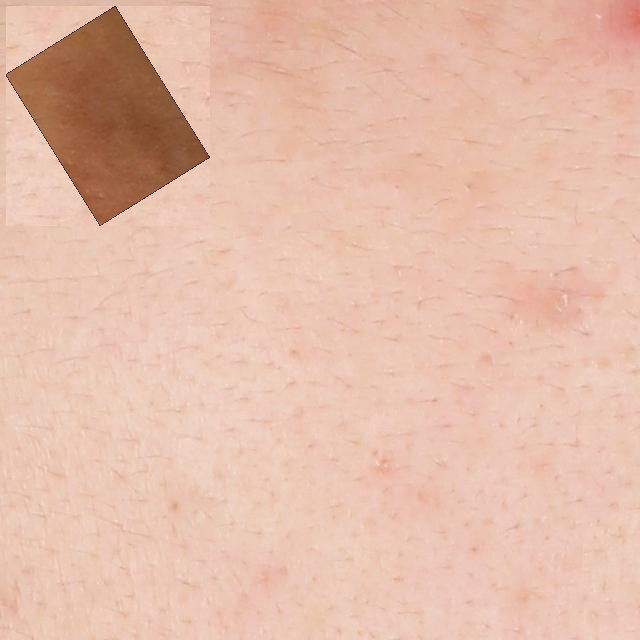melasma: (17, 17, 199, 214)
